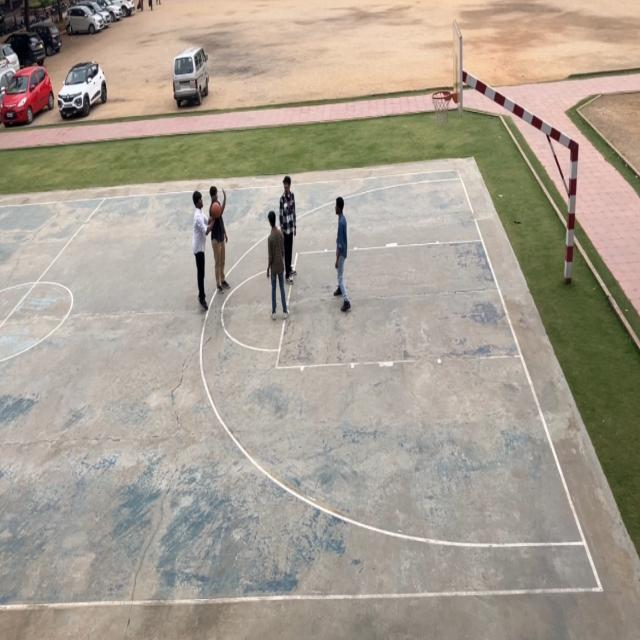basketball: (209, 200, 223, 222)
hoop: (431, 89, 452, 128)
